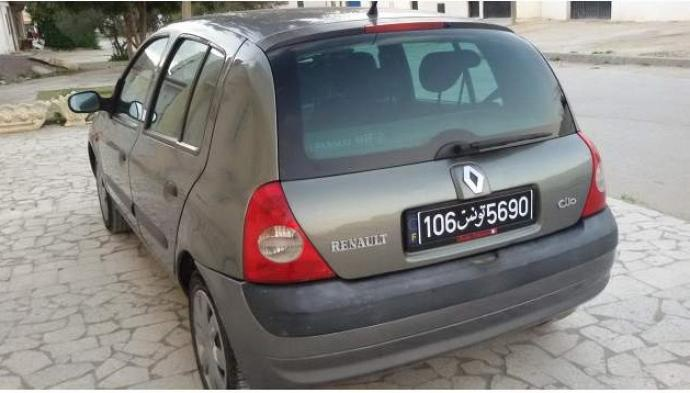LP: (415, 188, 541, 245)
